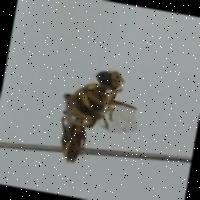Oriental-fruit-fly: (30, 39, 158, 185)
